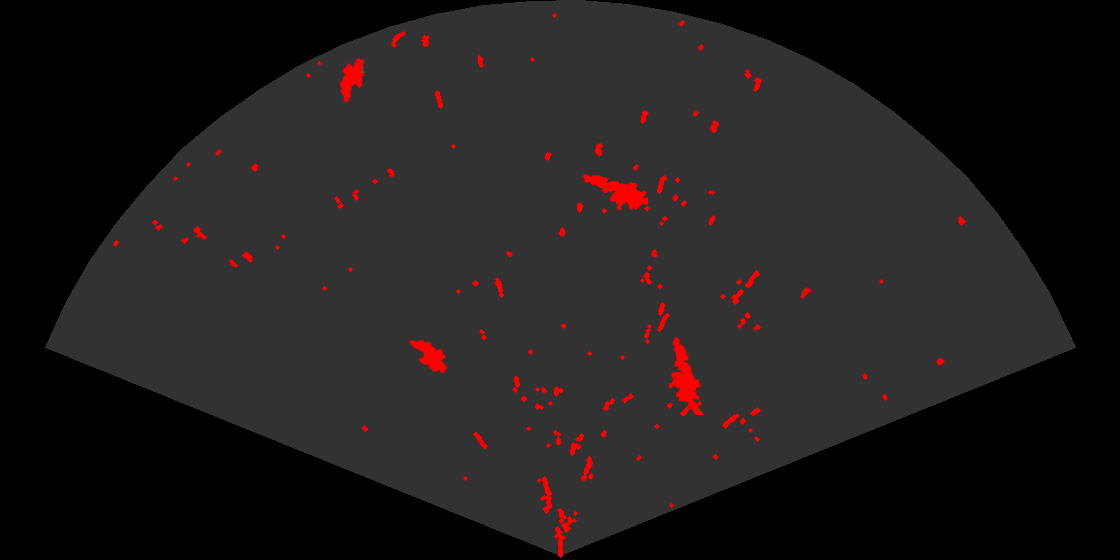AUV: (408, 338, 449, 375), (338, 56, 366, 104)
frogman: (667, 336, 705, 415), (580, 173, 648, 212)
